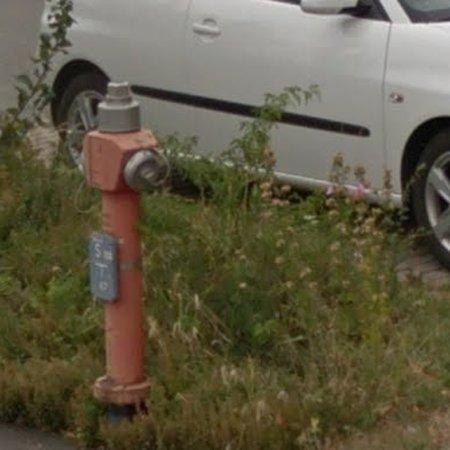a fire hydrant: (83, 82, 169, 411)
